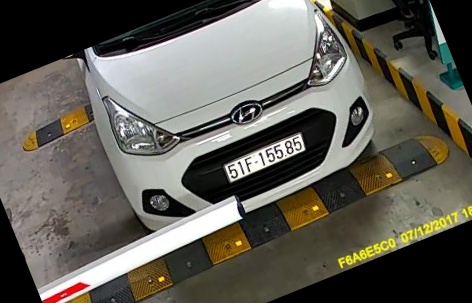plate: (224, 133, 321, 187)
